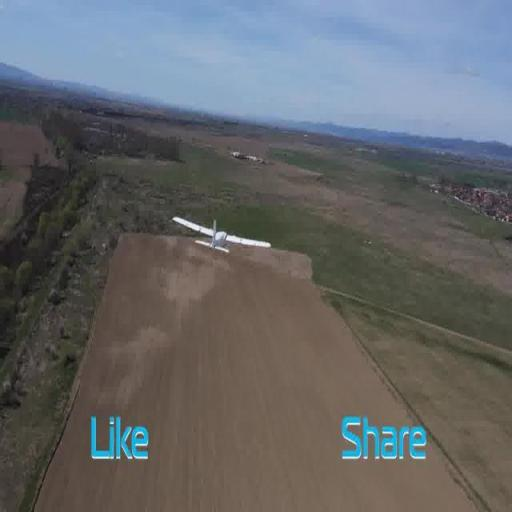uav: (170, 208, 274, 274)
